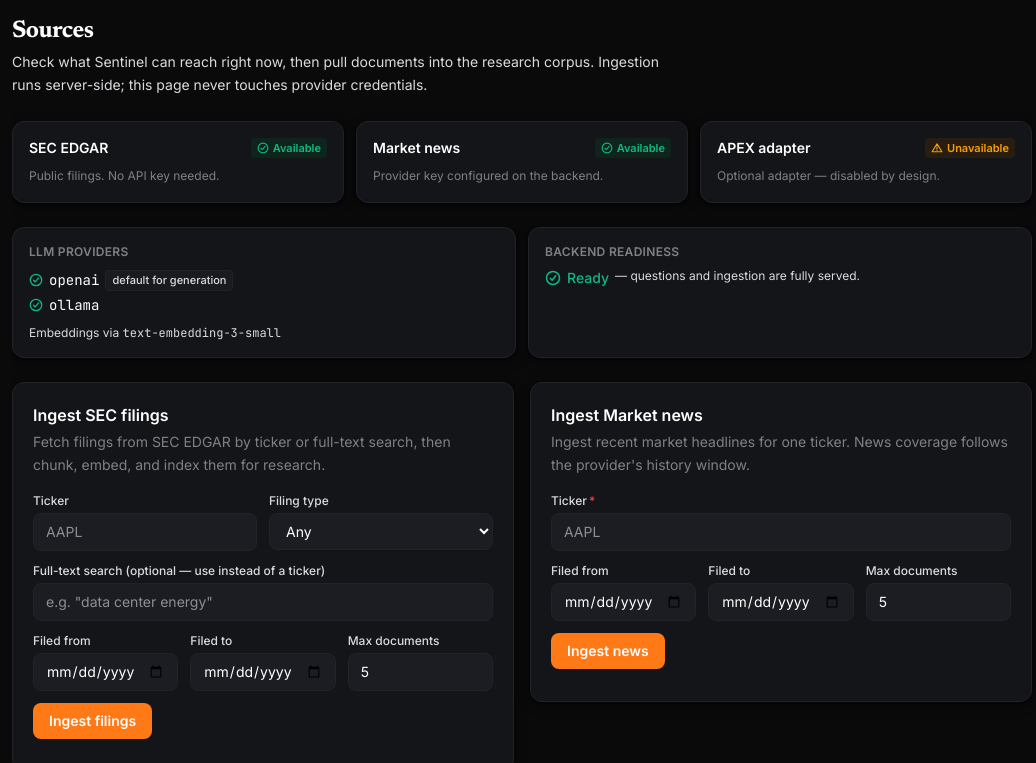
Test case: SEC ingestion form › validates ticker format, date order, and limit range before submitting
Expected: the heading "Ingest SEC filings" is shown, [33,405,168,425]
In the field labelled "Ticker": point(145, 532) [33,513,257,551], type "!!"
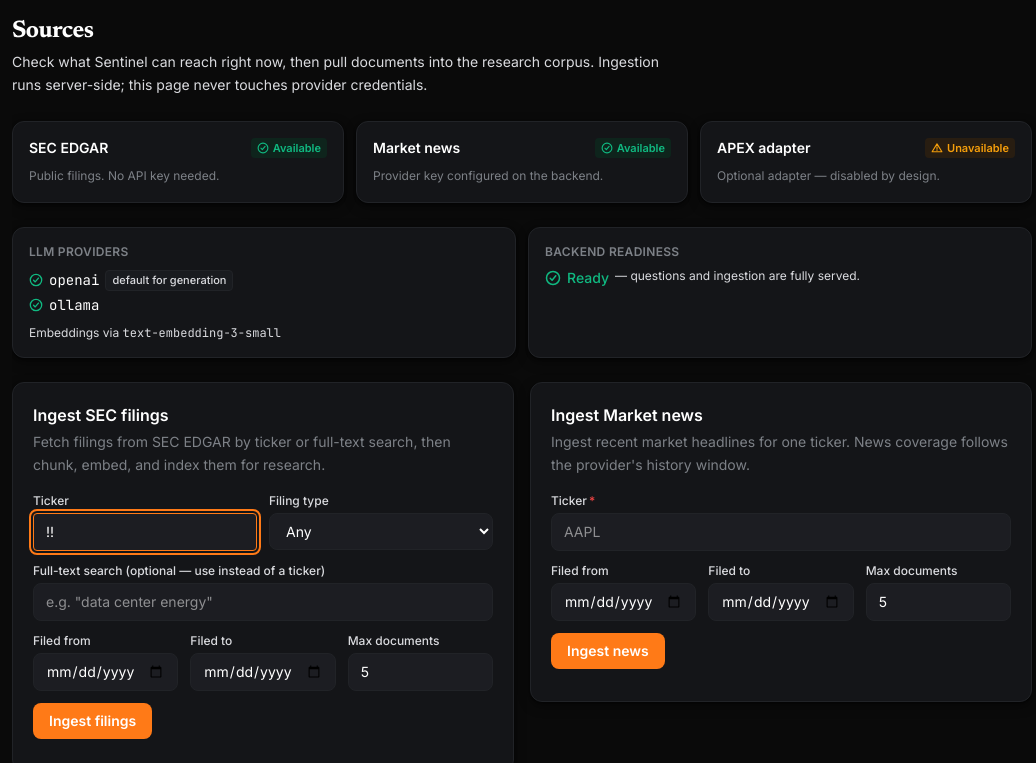
In the date field labelled "Filed from" below "Filing type": point(106, 672) [33,653,178,691], type "2024-12-31"
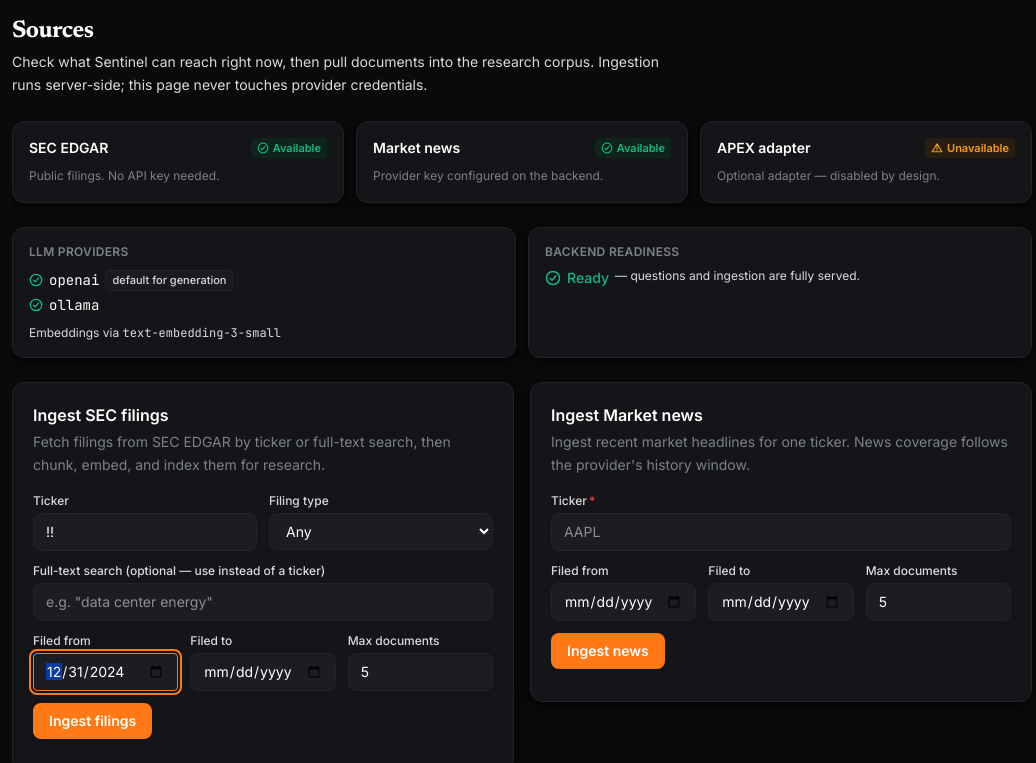
In the date field labelled "Filed to" below "Filing type": point(263, 672) [190,653,336,691], type "2024-01-01"
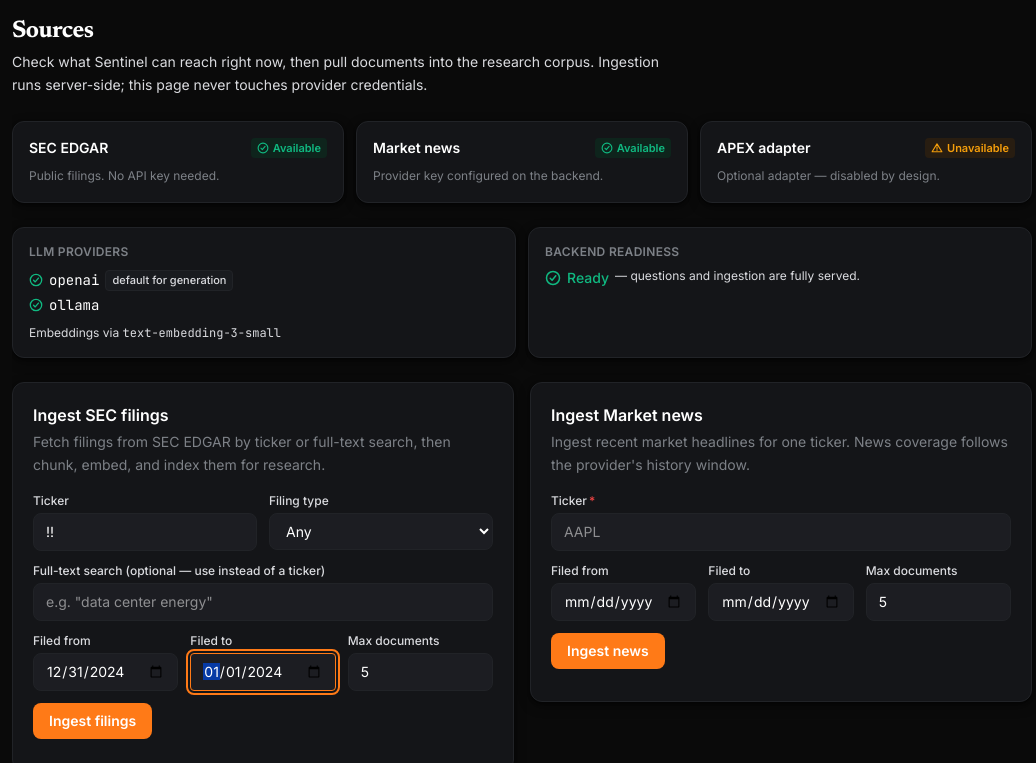
Replace the text in the number field labelled "Max documents" below "Filing type" with "99": point(420, 672) [348,653,493,691]
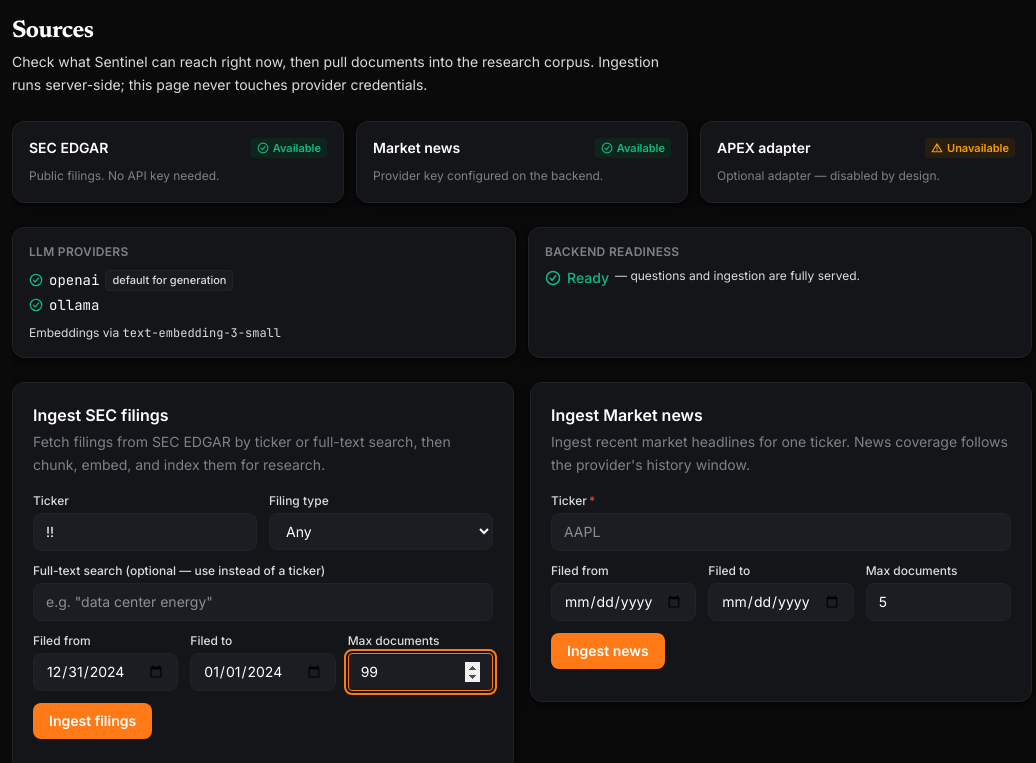
Click the button "Ingest filings": point(93, 721) [33,703,152,739]
(page scrolled)
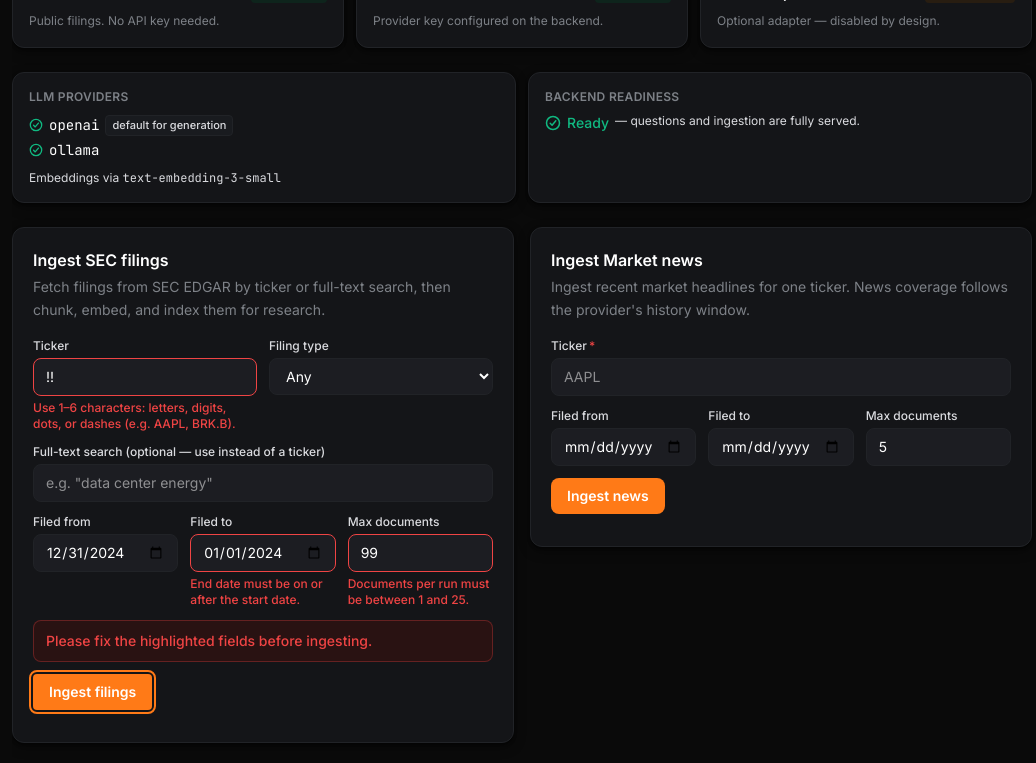
Expected: the text "Use 1–6 characters" is shown, [33,400,236,431]
Expected: the text "End date must be on or after the start date." is shown, [190,576,336,608]
Expected: the text "Documents per run must be between 1 and 25." is shown, [348,576,493,608]
